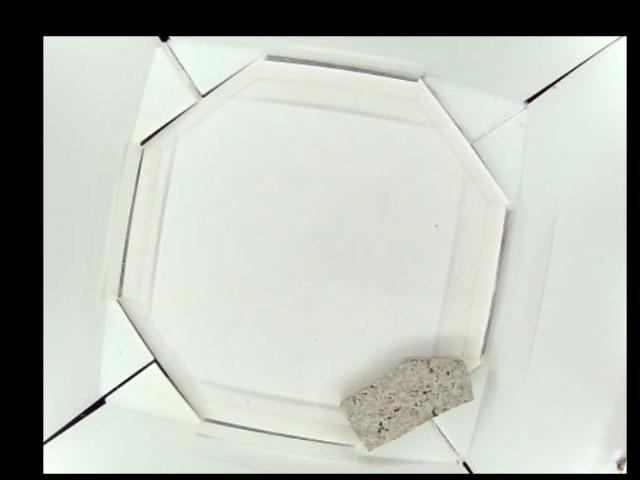China: (340, 355, 476, 450)
